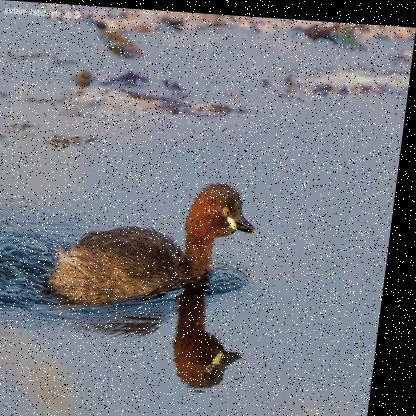Burung: (56, 171, 267, 309)
